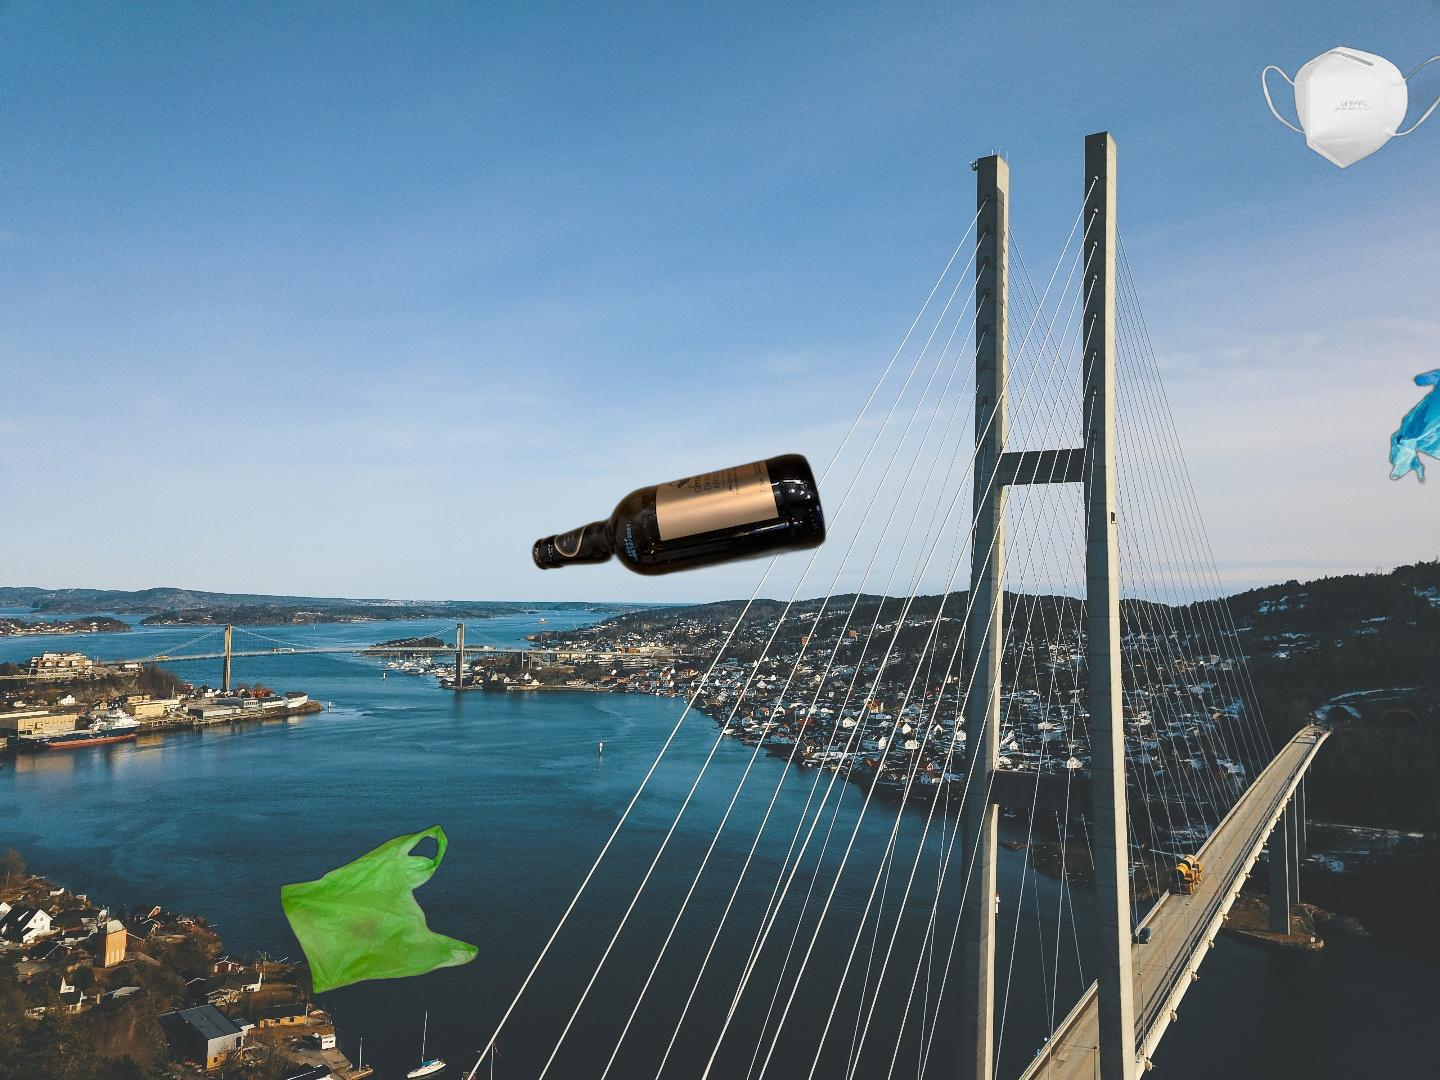glass: (528, 452, 831, 579)
plastic-bag: (277, 822, 481, 997), (1387, 313, 1440, 487)
trash: (1259, 43, 1440, 172)
